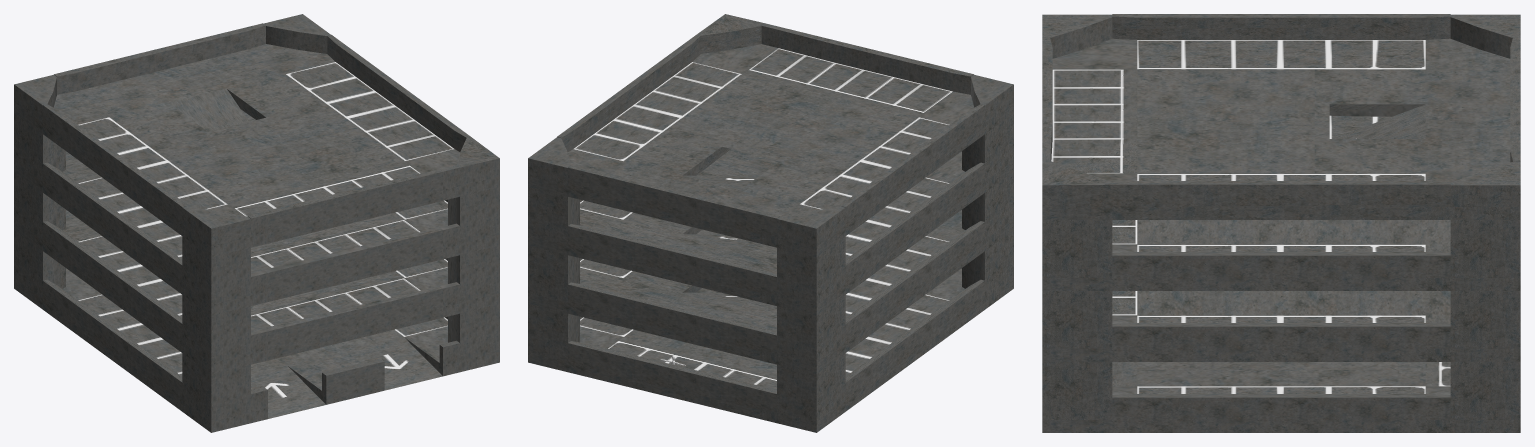
The model's file is Parking_Structure.fbx.
The picture shows the model from 3 angles, left to right: view 1: azimuth 30°, elevation 25°; view 2: azimuth 150°, elevation 25°; view 3: azimuth 270°, elevation 25°; orthographic projection. The views are drawn at different scales.
Parts seen in each view (by area): view 1: Cube_4; view 2: Cube_4; view 3: Cube_4.
Part boxes in pixels (<box>): Cube_4: <box>14,14,499,432</box>; Cube_4: <box>528,14,1013,432</box>; Cube_4: <box>1042,14,1520,432</box>.
Size of the model in its own units: 2071 by 1404 by 2450.
Materials: 1 (1 with a texture image).
